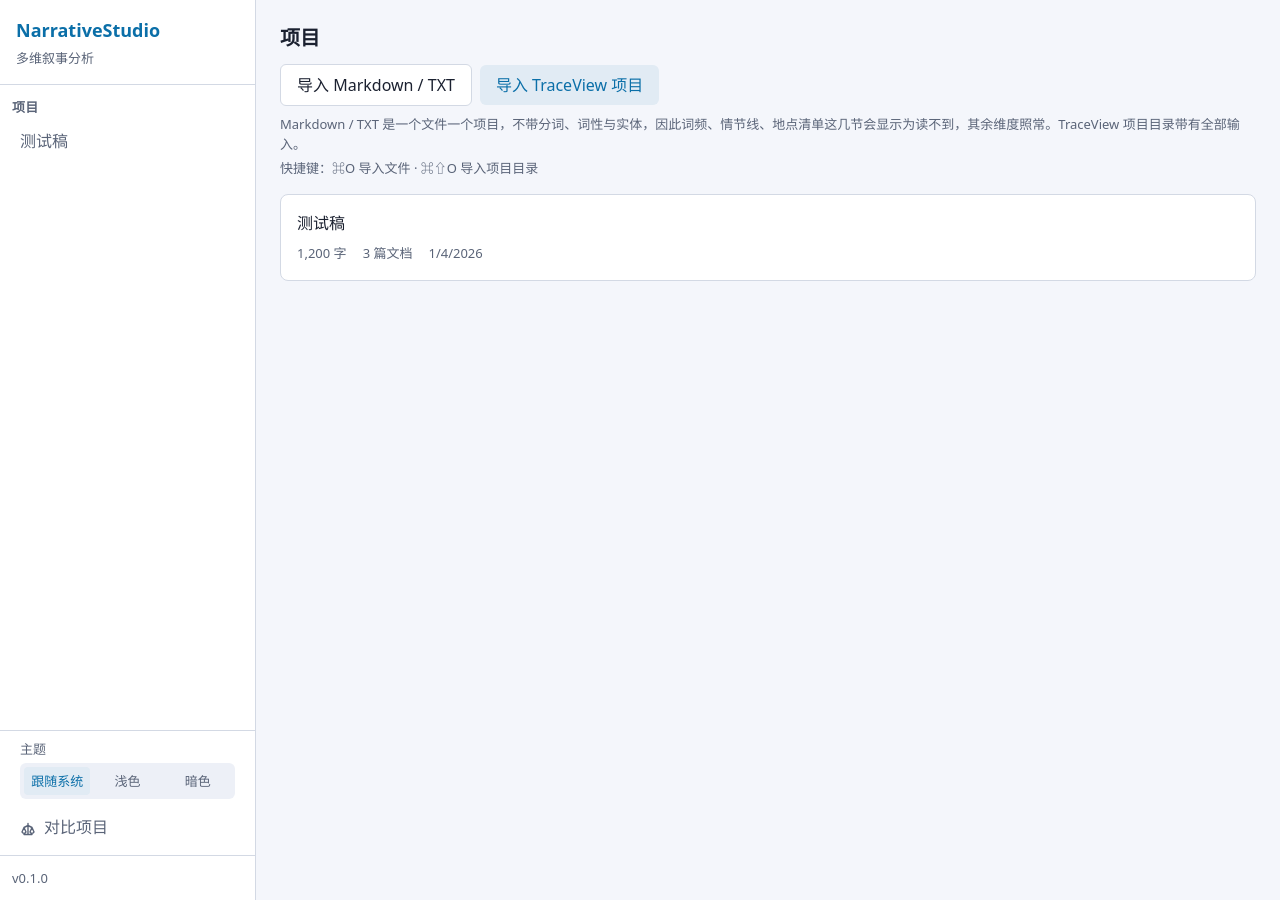
Scenario: the running app › says what is missing instead of going dead when the cache is stale
The image size is (1280, 900).
Click the button "测试稿": (128, 141) x1=8 y1=121 x2=247 y2=161
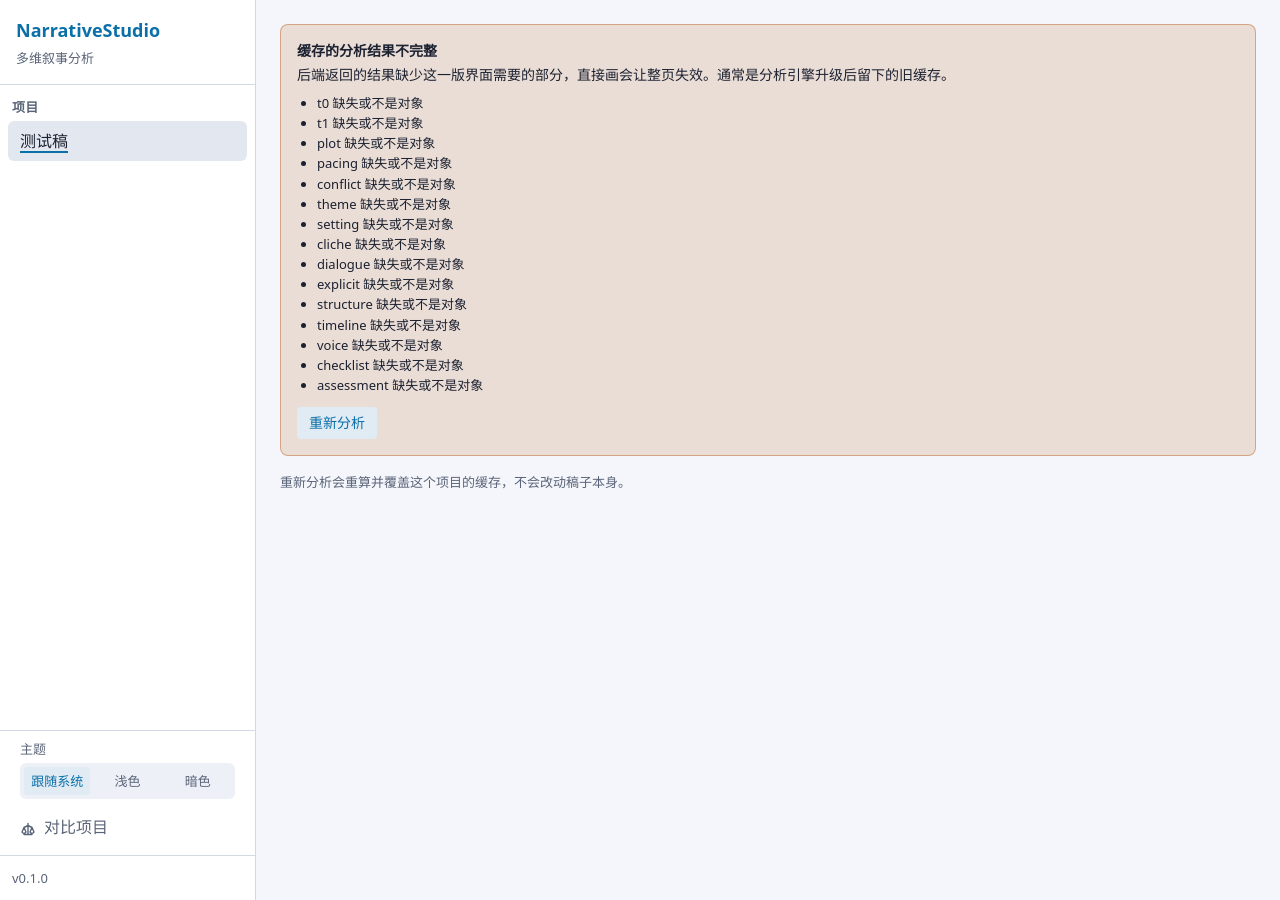
Result: the text "缓存的分析结果不完整" is shown at x1=297 y1=41 x2=437 y2=60
Result: the text "t1 缺失或不是对象" is shown at x1=317 y1=114 x2=424 y2=132
Result: the button "重新分析" is shown at x1=297 y1=407 x2=377 y2=439
